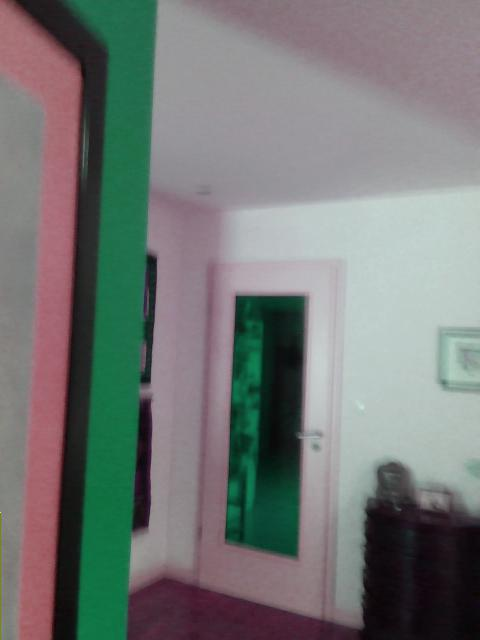closed_door: (193, 259, 346, 632)
